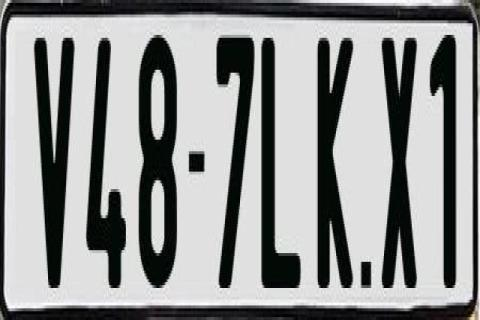0: (84, 38, 128, 306), (139, 32, 182, 294), (214, 32, 255, 288), (428, 35, 456, 291)
K: (316, 32, 352, 291)
L: (262, 35, 302, 299)
V: (31, 32, 78, 300)
X: (380, 35, 421, 288)
